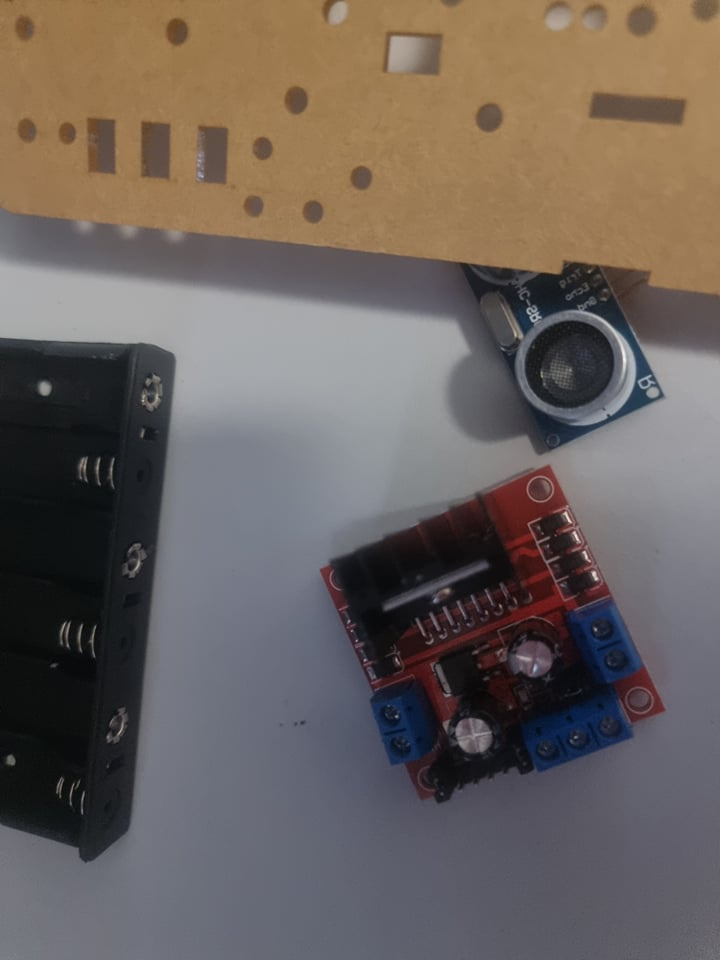BATTERY BOX: (0, 335, 185, 862)
MOTOR: (320, 465, 668, 802)
SENSOR: (448, 238, 695, 459)
